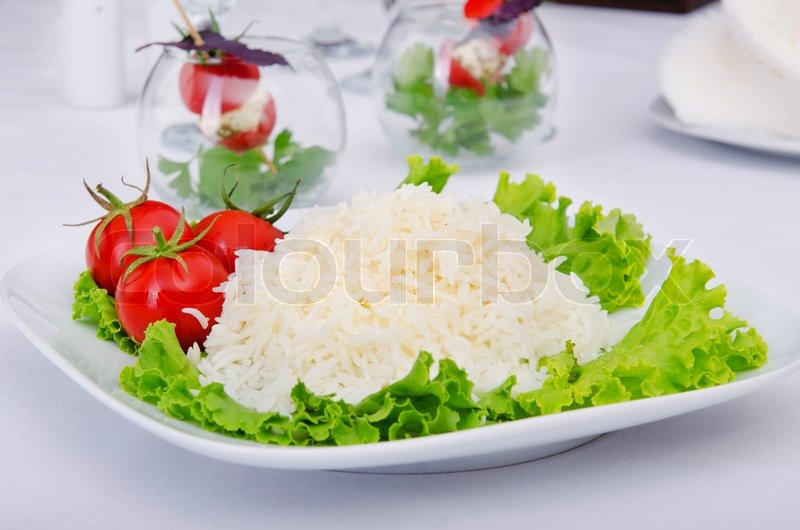chopped lettuce: (130, 354, 625, 443), (559, 209, 767, 401)
plain rice: (219, 198, 586, 397)
